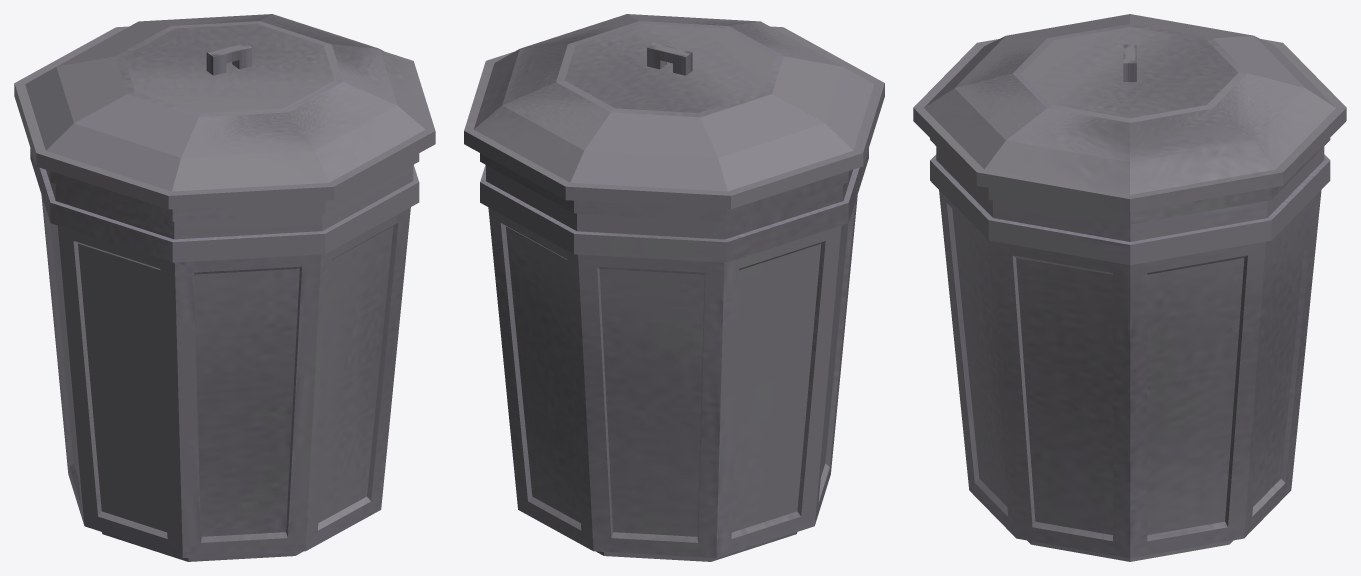
The model's file is trash1.fbx.
3 views of the same model, side by side, from view 1: azimuth 30°, elevation 25°; view 2: azimuth 150°, elevation 25°; view 3: azimuth 270°, elevation 25° (orthographic).
Parts seen in each view (by area): view 1: Cube.016, Cube.017; view 2: Cube.016, Cube.017; view 3: Cube.016, Cube.017.
Boxes of the visible parts, x1,y1,x2,y2 form: Cube.016: (30,148,419,561); Cube.017: (14,14,435,209); Cube.016: (480,148,868,561); Cube.017: (464,14,884,209); Cube.016: (930,138,1330,561); Cube.017: (913,14,1346,212).
Bounding box in the file's own units: 49.24 × 56.51 × 49.24.
Materials: 1 (1 with a texture image).
